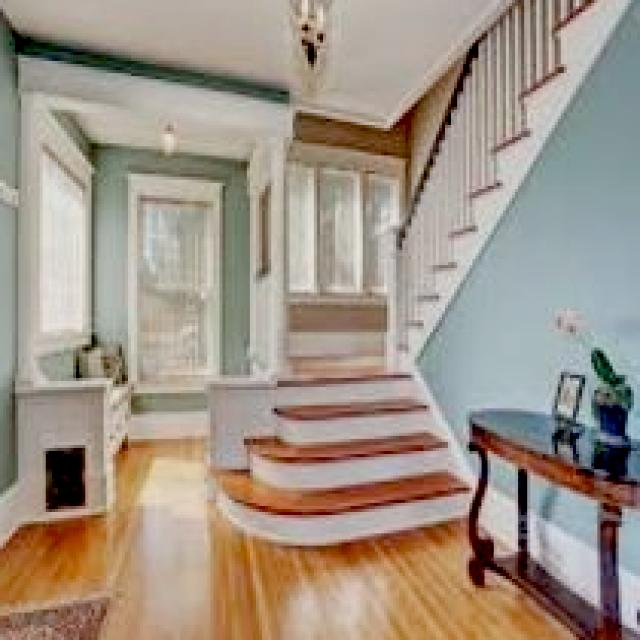upstair: (233, 376, 477, 525)
